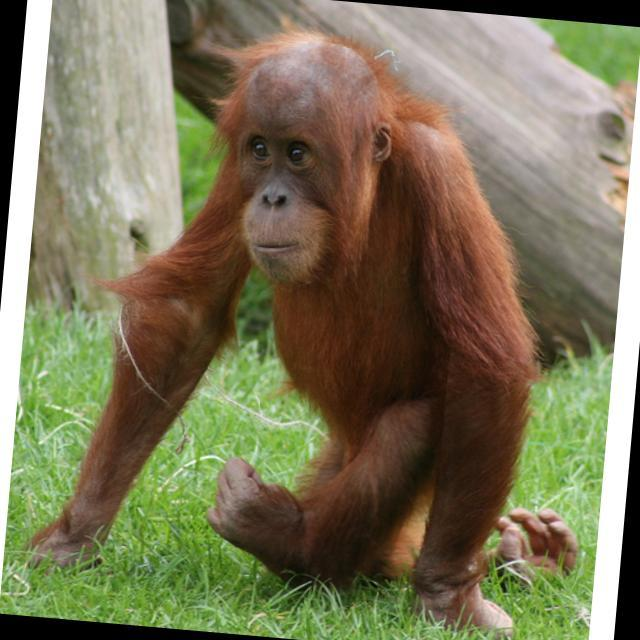Orangutan: (108, 46, 544, 568)
